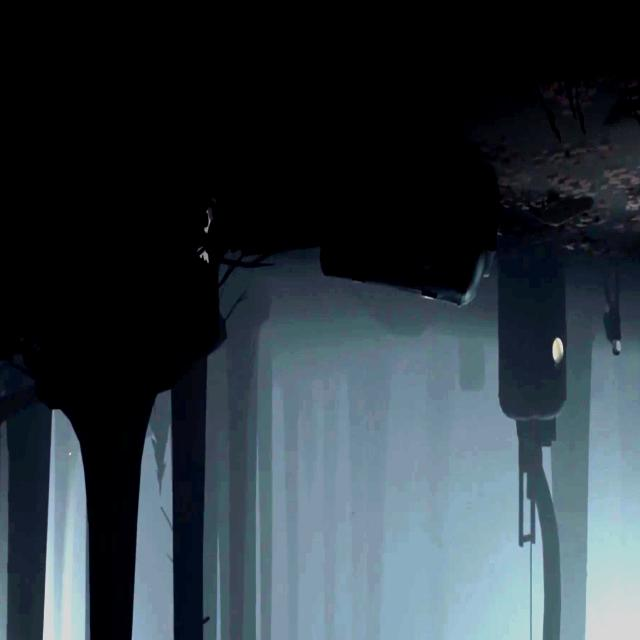boy: (190, 202, 212, 276)
human: (602, 261, 622, 356)
